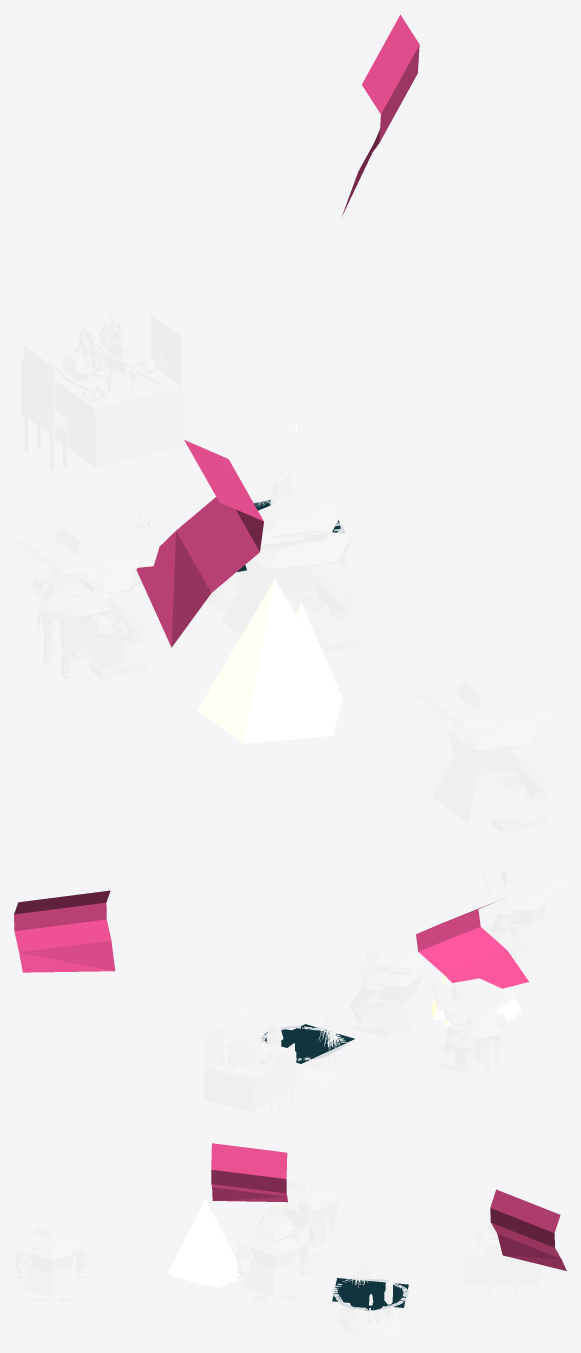
Rendered from ile-ambre-v5-leger.glb.
3 renders of one model, top to bottom at view 1: azimuth 30°, elevation 25°; view 2: azimuth 150°, elevation 25°; view 3: azimuth 270°, elevation 25°, orthographic. The views are drawn at different scales.
Visible parts, largest first — view 1: ile_anime0.021, ile_anime3.019, ile_libre0.019, ile_anime2.021, ile_banniere1.007, ile_anime1.021, ile_anime4.015, ile_banniere0.009, ile_corps.021; view 2: ile_banniere0.009, ile_anime0.021, ile_anime2.021, ile_anime3.019, ile_banniere1.007, ile_anime1.021, ile_corps.021, ile_anime4.015, ile_libre1.011, ile_libre0.019; view 3: ile_anime3.019, ile_anime2.021, ile_banniere1.007, ile_banniere0.009, ile_libre0.019, ile_anime0.021, ile_anime1.021, ile_corps.021, ile_libre1.011, ile_anime4.015.
Boxes of the visible parts, <box> form: ile_anime0.021: <box>21,314,184,470</box>; ile_anime3.019: <box>415,665,566,834</box>; ile_libre0.019: <box>197,579,342,743</box>; ile_anime2.021: <box>221,497,368,653</box>; ile_banniere1.007: <box>136,440,263,647</box>; ile_anime1.021: <box>14,510,164,679</box>; ile_anime4.015: <box>31,511,166,678</box>; ile_banniere0.009: <box>342,15,419,215</box>; ile_corps.021: <box>205,442,294,613</box>; ile_banniere0.009: <box>14,890,115,972</box>; ile_anime0.021: <box>203,1020,296,1114</box>; ile_anime2.021: <box>349,946,432,1037</box>; ile_anime3.019: <box>481,863,566,958</box>; ile_banniere1.007: <box>416,902,528,988</box>; ile_anime1.021: <box>432,978,516,1073</box>; ile_corps.021: <box>266,1009,344,1093</box>; ile_anime4.015: <box>431,979,507,1073</box>; ile_libre1.011: <box>259,1024,354,1063</box>; ile_libre0.019: <box>430,975,522,1026</box>; ile_anime3.019: <box>14,1217,90,1302</box>; ile_anime2.021: <box>236,1214,312,1300</box>; ile_banniere1.007: <box>211,1143,287,1202</box>; ile_banniere0.009: <box>490,1189,566,1270</box>; ile_libre0.019: <box>167,1199,241,1287</box>; ile_anime0.021: <box>464,1212,541,1298</box>; ile_anime1.021: <box>268,1170,343,1255</box>; ile_corps.021: <box>332,1258,408,1338</box>; ile_libre1.011: <box>332,1278,408,1310</box>; ile_anime4.015: <box>267,1190,343,1250</box>.
Bounding box in the file's own units: 9.7 × 5.56 × 14.41.
